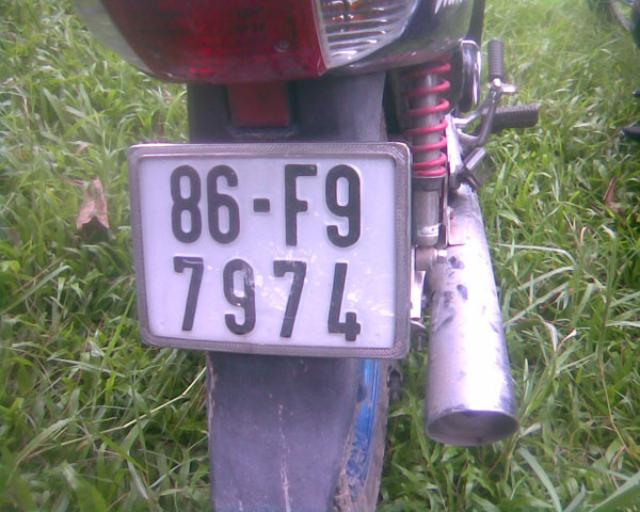plate: (126, 140, 410, 354)
